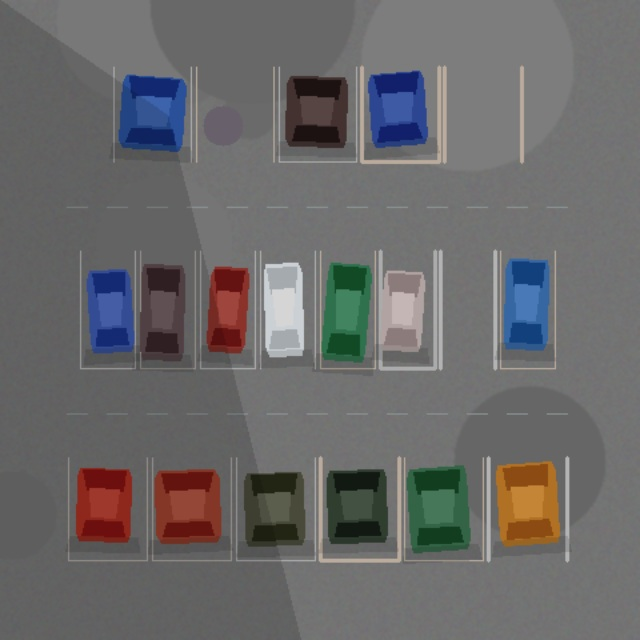space-empty: (196, 67, 273, 161), (444, 67, 521, 161), (440, 251, 495, 368)
space-occupied: (68, 457, 147, 560), (152, 457, 231, 560), (236, 457, 315, 560), (320, 457, 399, 560), (404, 457, 483, 560), (488, 457, 567, 560), (113, 67, 191, 161), (361, 67, 439, 161), (279, 67, 356, 161), (80, 251, 135, 368), (140, 251, 195, 368), (200, 251, 255, 368), (260, 251, 315, 368), (320, 251, 375, 368), (380, 251, 435, 368), (500, 251, 555, 368)
